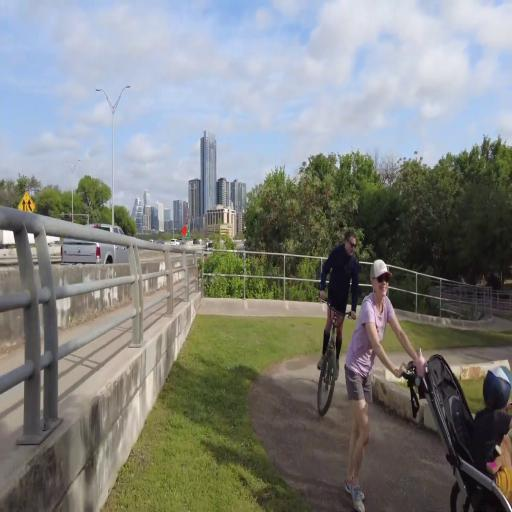Street_Light: (92, 78, 134, 236)
